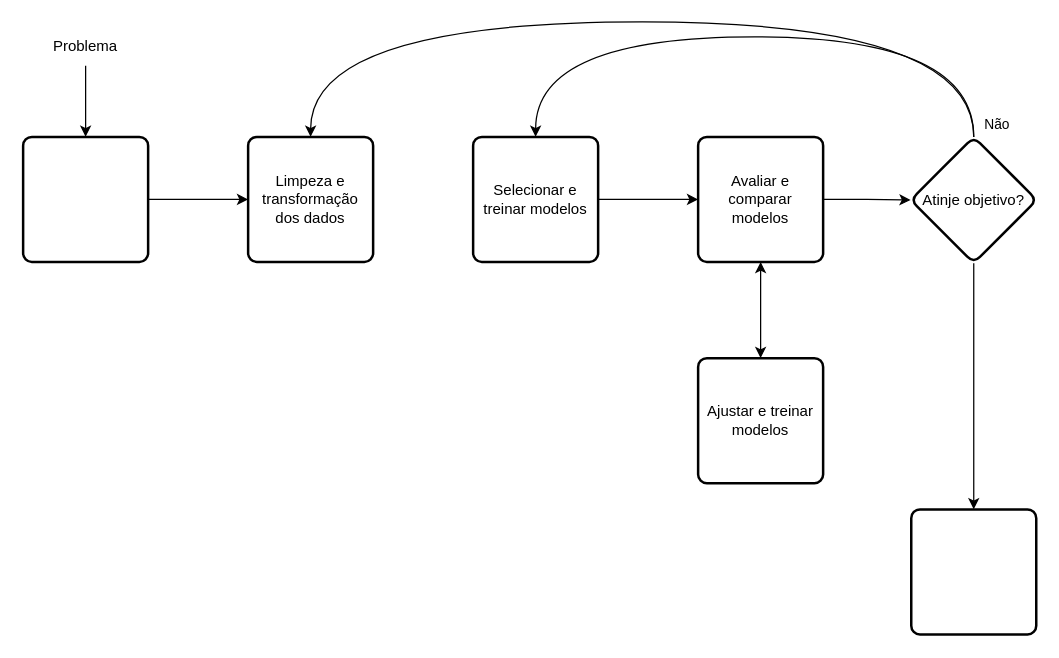
Image size: 1059x658. Some labels were removed from this diagram. Each missing label, with the centre of its shape:
"Análise do problema e dos dados" belongs at point 85,198.
"Preparar modelo para dados futuros" belongs at point 973,571.
